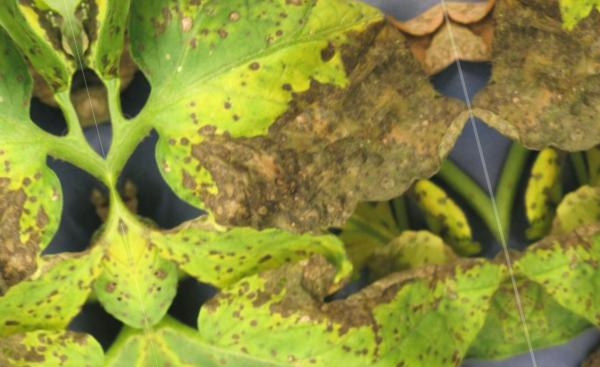Tomato Septoria leaf spot: (94, 0, 488, 261), (165, 217, 521, 367)
